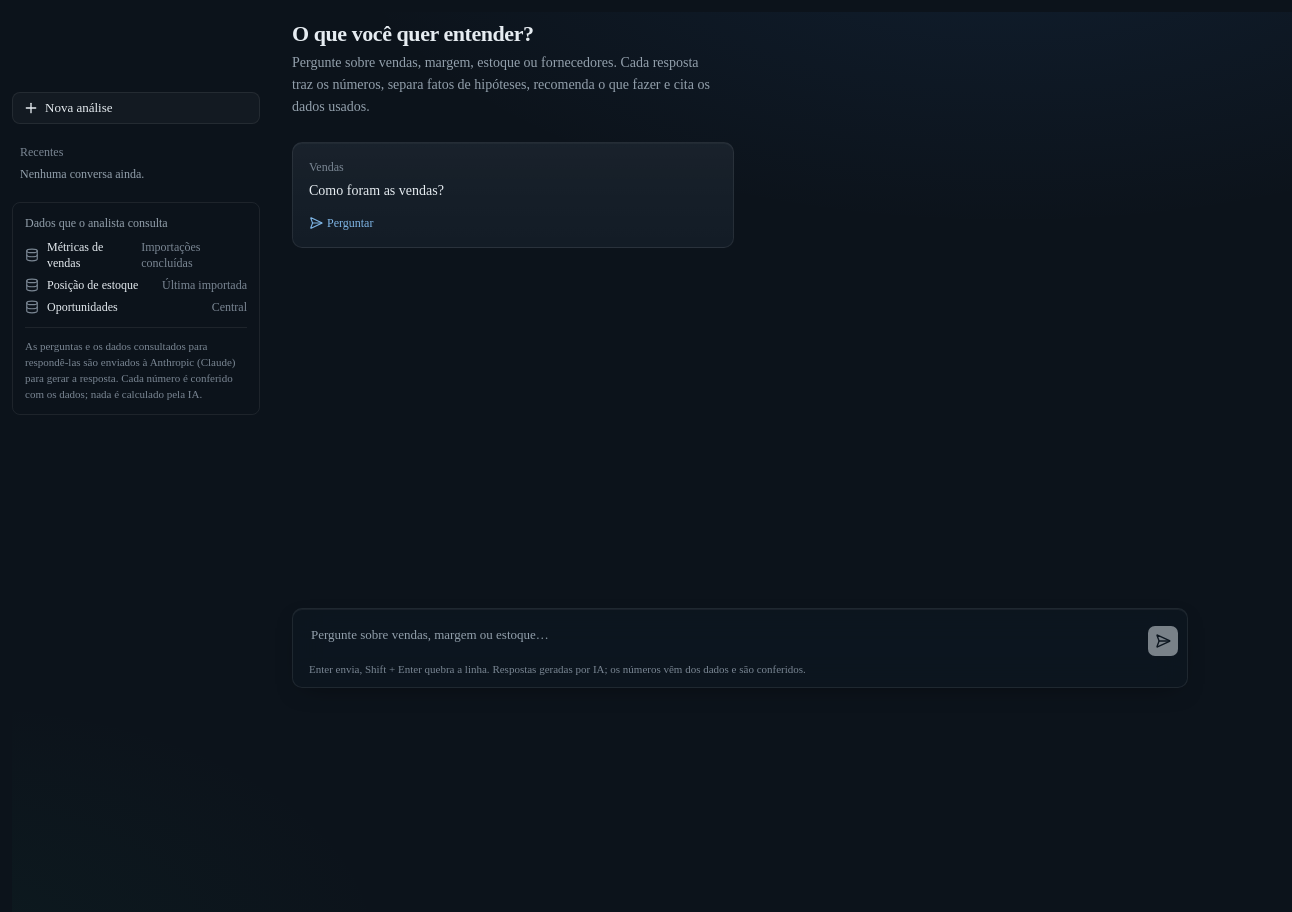
Test: analista ao vivo › a conexão que cai sem resposta também vira aviso
In the text box named "Pergunta para o analista": (720, 637) x1=301 y1=617 x2=1139 y2=657, type "Oi"
Then press Enter
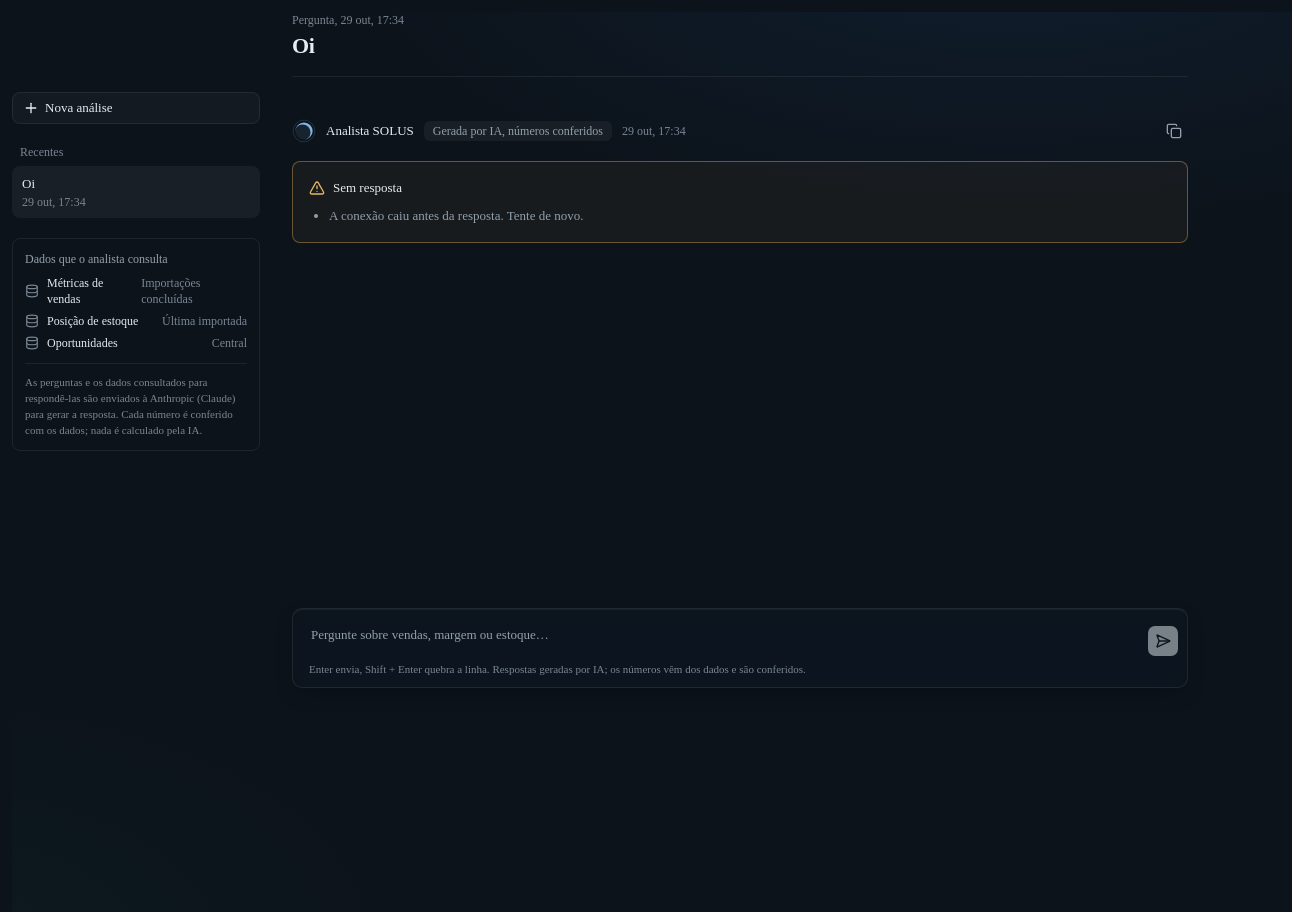
Expected: the list item "A conexão caiu antes da resposta. Tente de novo." is shown, x1=329 y1=208 x2=583 y2=223
